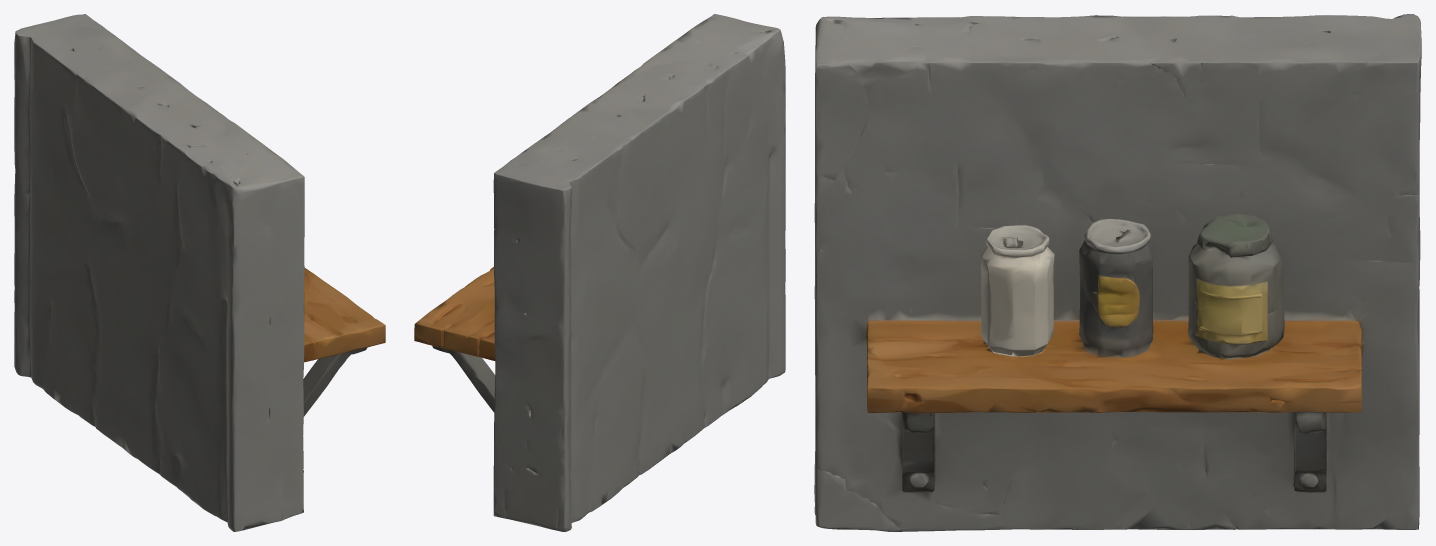
File: wall_shelf.glb
3 views of the same model, side by side, from view 1: azimuth 30°, elevation 25°; view 2: azimuth 150°, elevation 25°; view 3: azimuth 270°, elevation 25° (orthographic). The views are drawn at different scales.
Visible parts, largest first — view 1: tripo_node_8badd4f0-a0f9-49cd-b875-d39b3df715ee; view 2: tripo_node_8badd4f0-a0f9-49cd-b875-d39b3df715ee; view 3: tripo_node_8badd4f0-a0f9-49cd-b875-d39b3df715ee.
Part boxes in pixels (x1,y1,x2,y2): tripo_node_8badd4f0-a0f9-49cd-b875-d39b3df715ee: [14, 14, 385, 531]; tripo_node_8badd4f0-a0f9-49cd-b875-d39b3df715ee: [414, 14, 785, 531]; tripo_node_8badd4f0-a0f9-49cd-b875-d39b3df715ee: [814, 14, 1421, 531].
Size of the model in its own units: 0.4535 by 0.857 by 1.
Materials: 1 (1 with a texture image).
